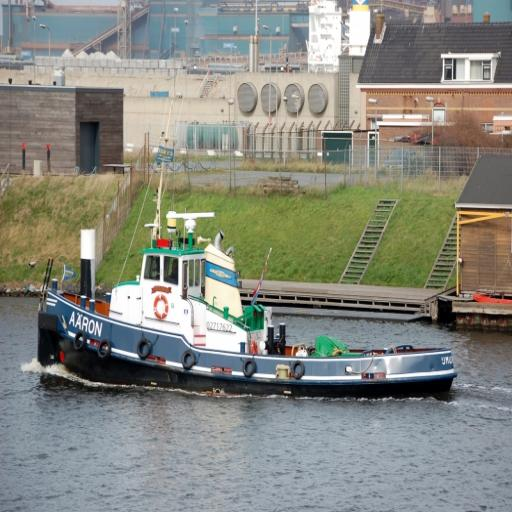tugboat: (36, 206, 462, 414)
